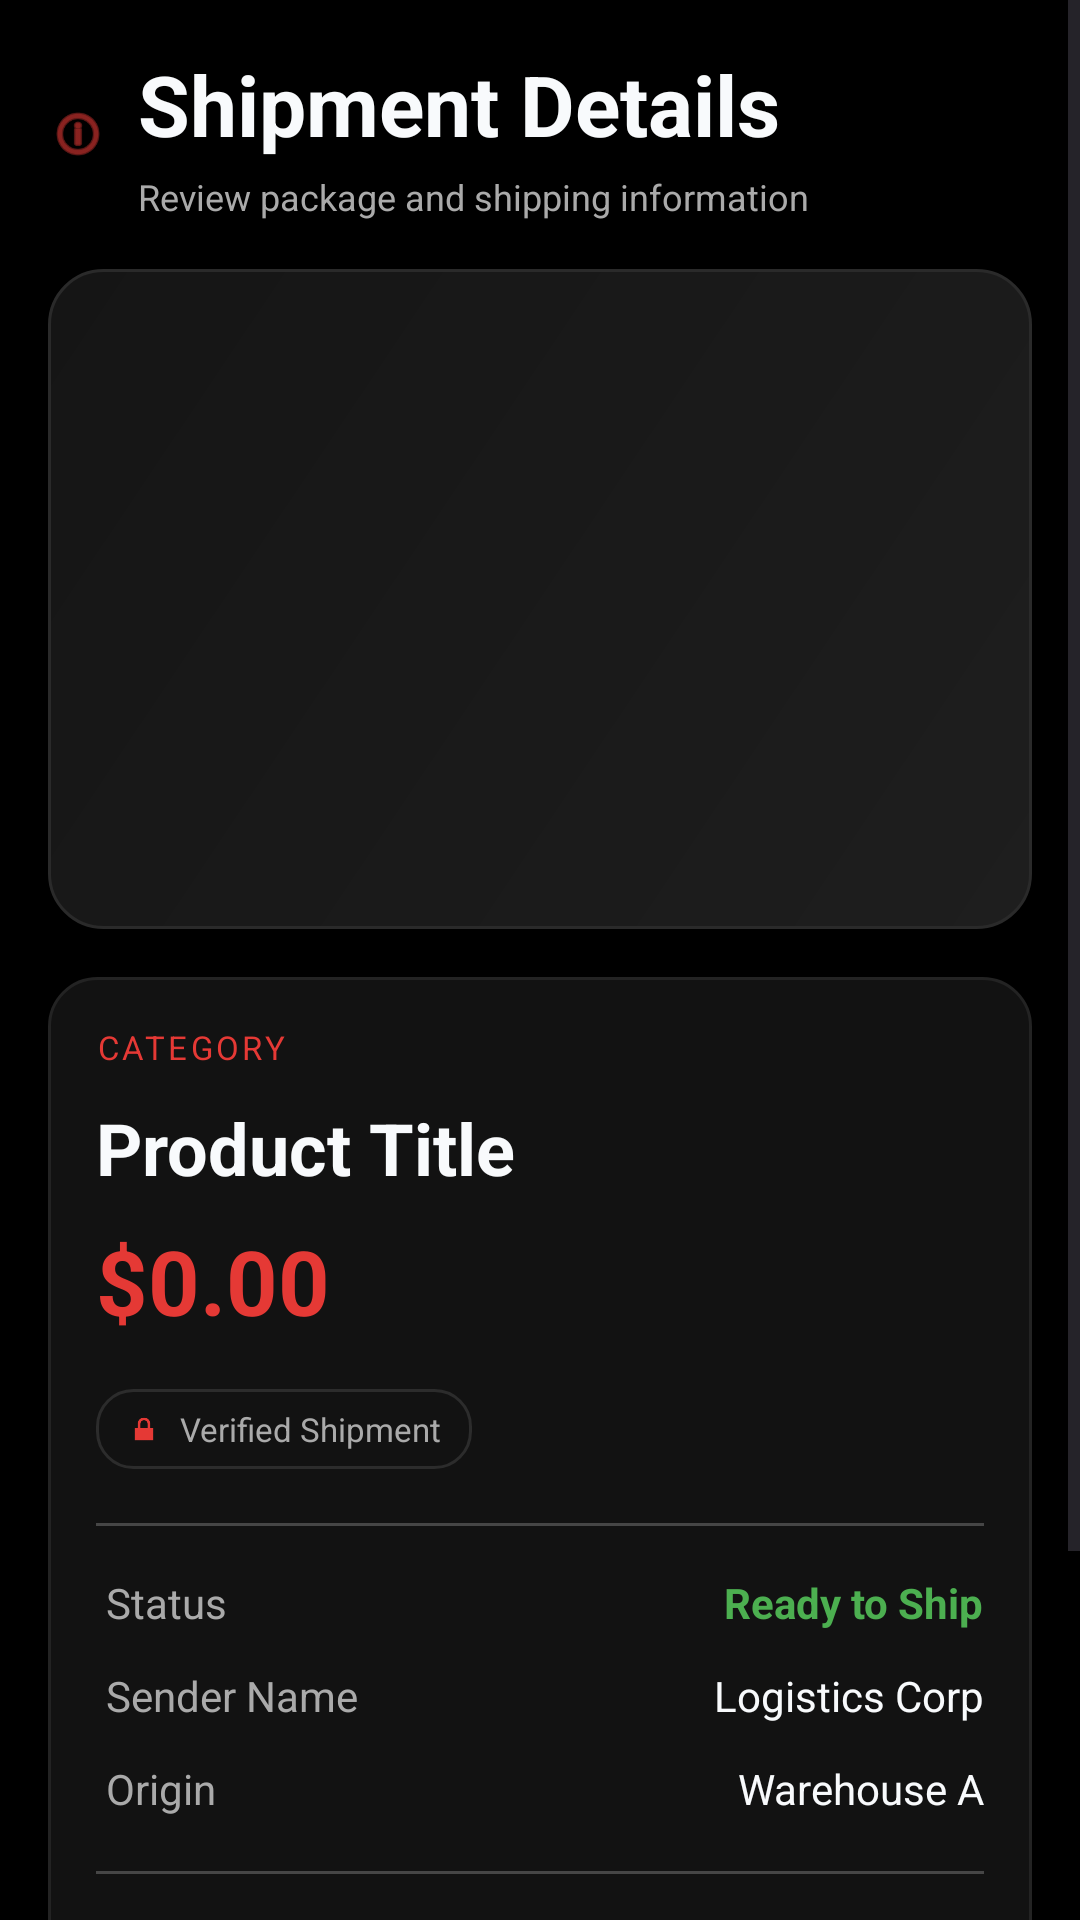

Locate icon controls on the screen. Image size 1080px x 1920px, boxes as (x1, y1, x2, y2).
info details: (56, 112, 100, 156)
